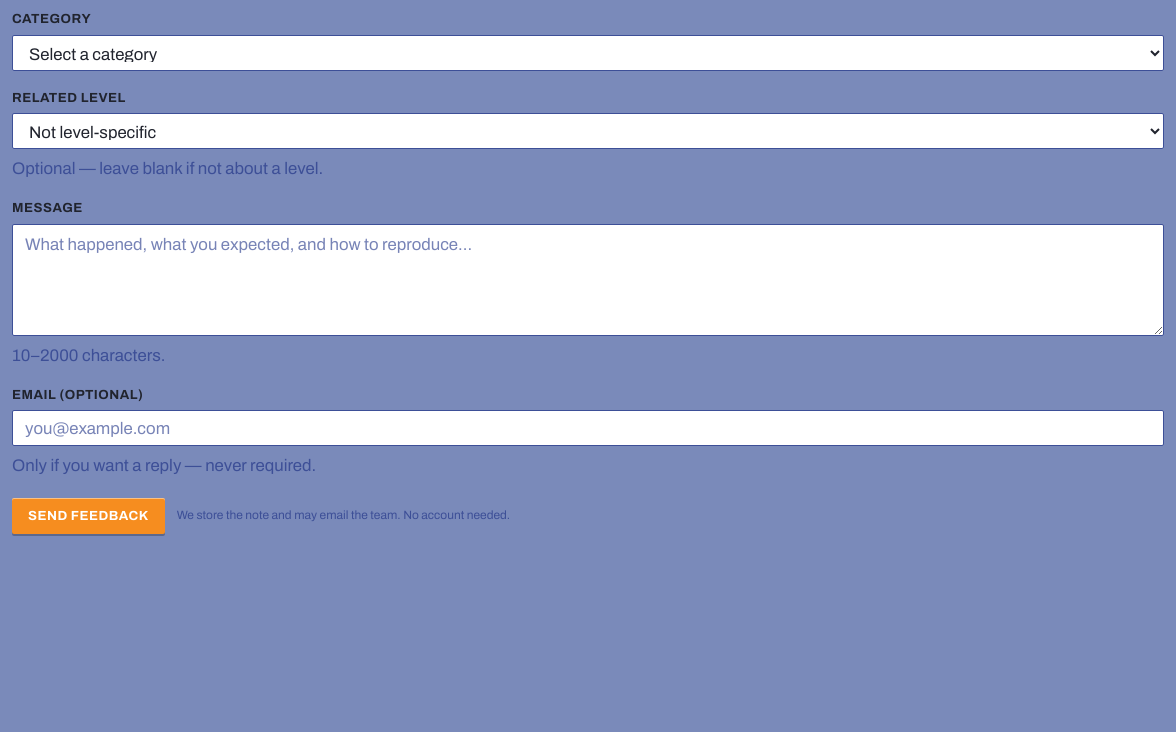
Test: FeedbackForm › shows success UI after submit
The image size is (1176, 732).
Select "Suggestion" in the dropdown labelled "Category" at (588, 52), box [12,34,1164,70]
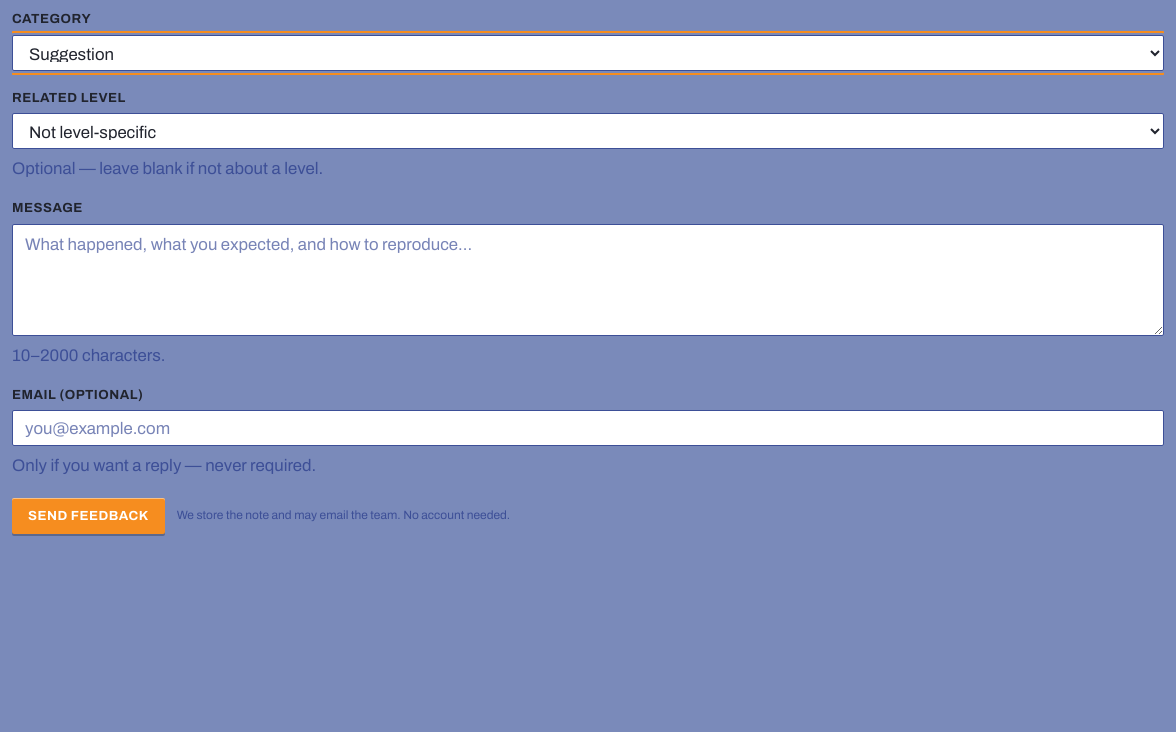
Type "This is a long enough feedback message." into the text box labelled "Message" at (588, 280), box [12,224,1164,336]
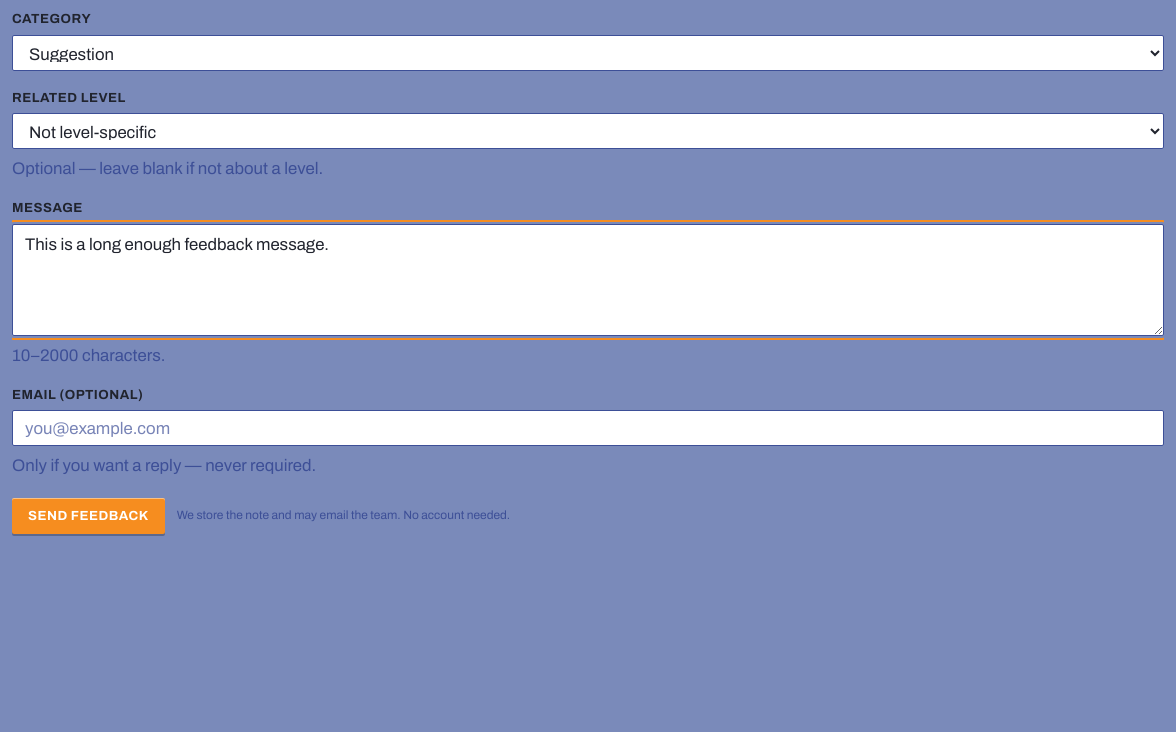
Click the button "Send feedback" at (88, 516), box [12,498,165,534]
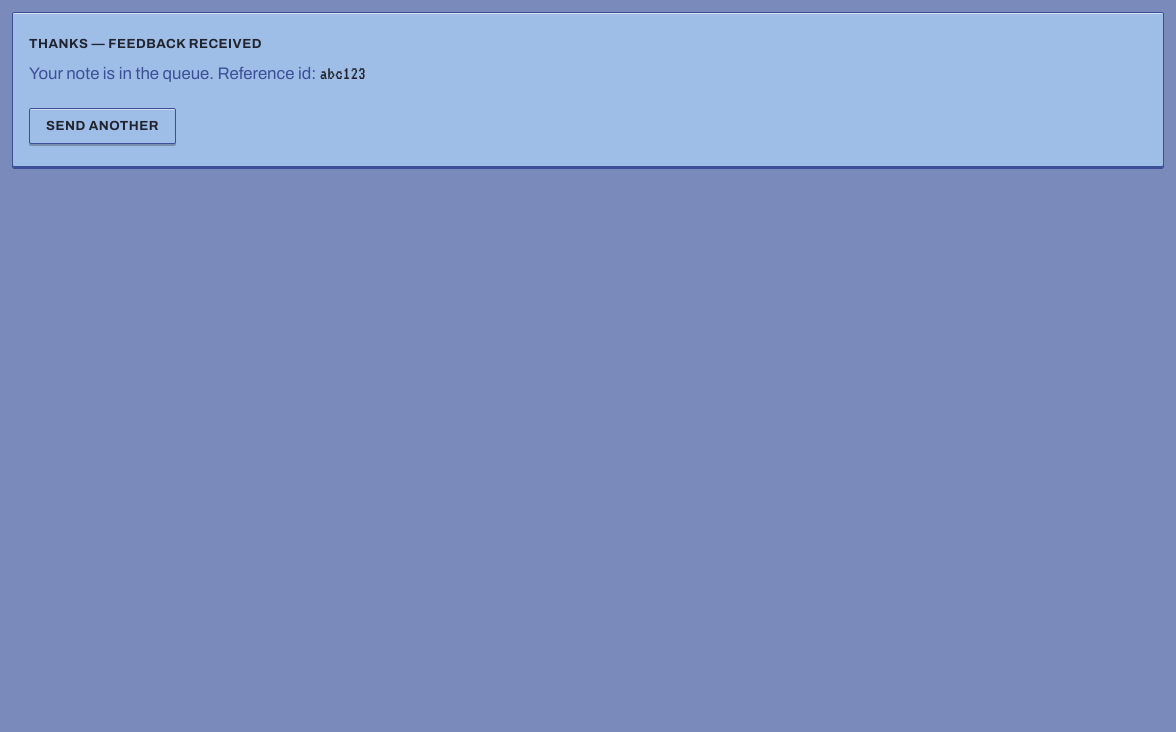
Expected: the text "Thanks — feedback received" is shown, [29,36,262,51]
Expected: the text "abc123" is shown, [320,64,366,82]
